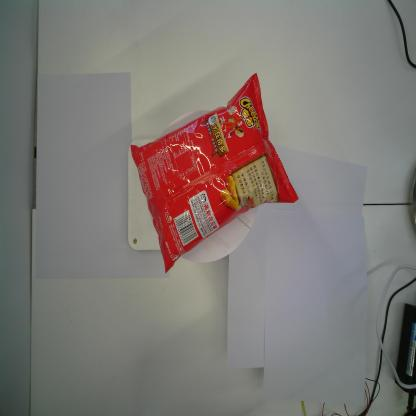Puffed Food: (130, 70, 300, 276)
